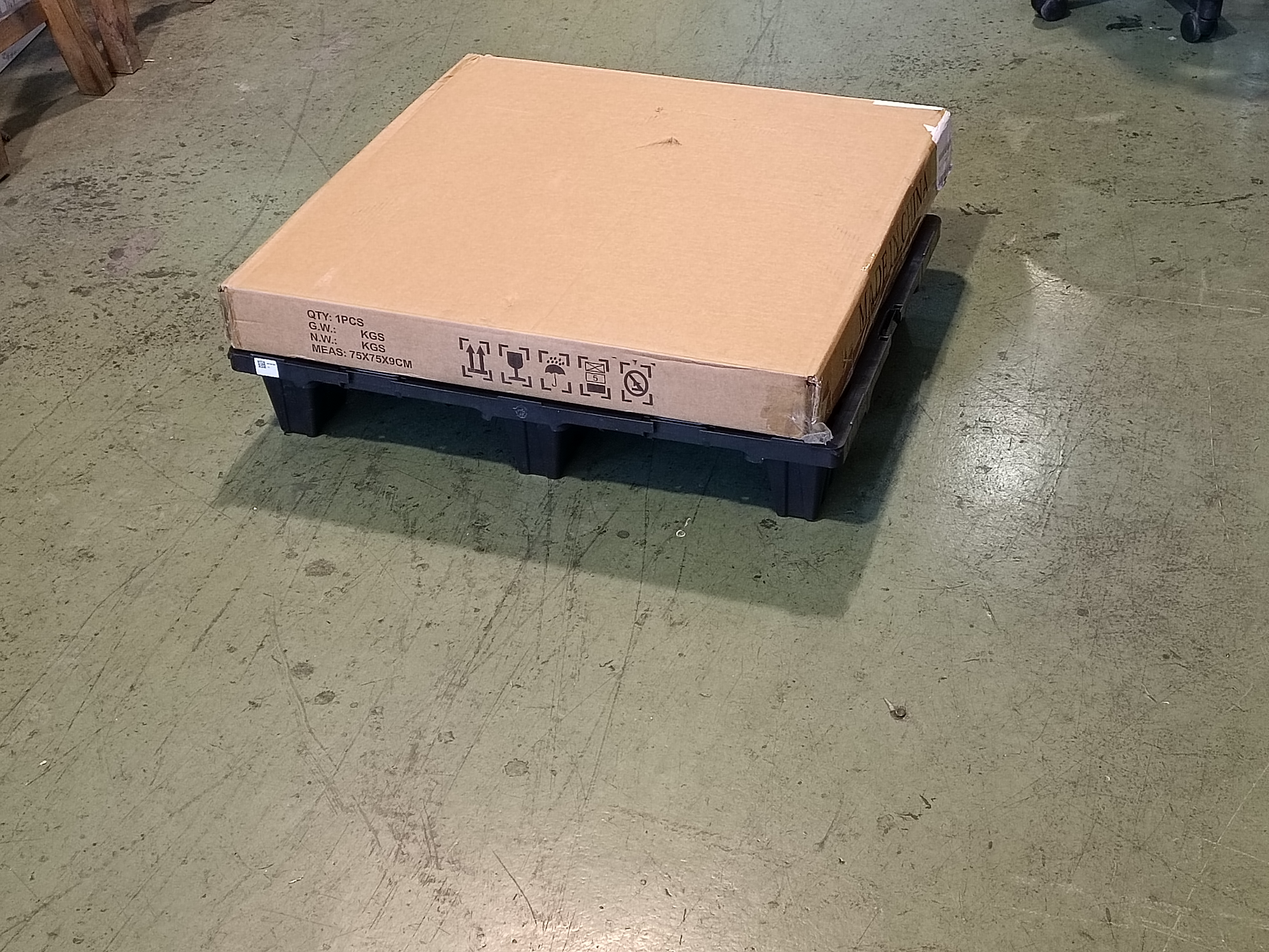block: (254, 359, 339, 447), (490, 396, 571, 482), (753, 440, 819, 528)
front: (241, 351, 849, 532)
hole pallet: (560, 428, 766, 505), (330, 393, 503, 472)
